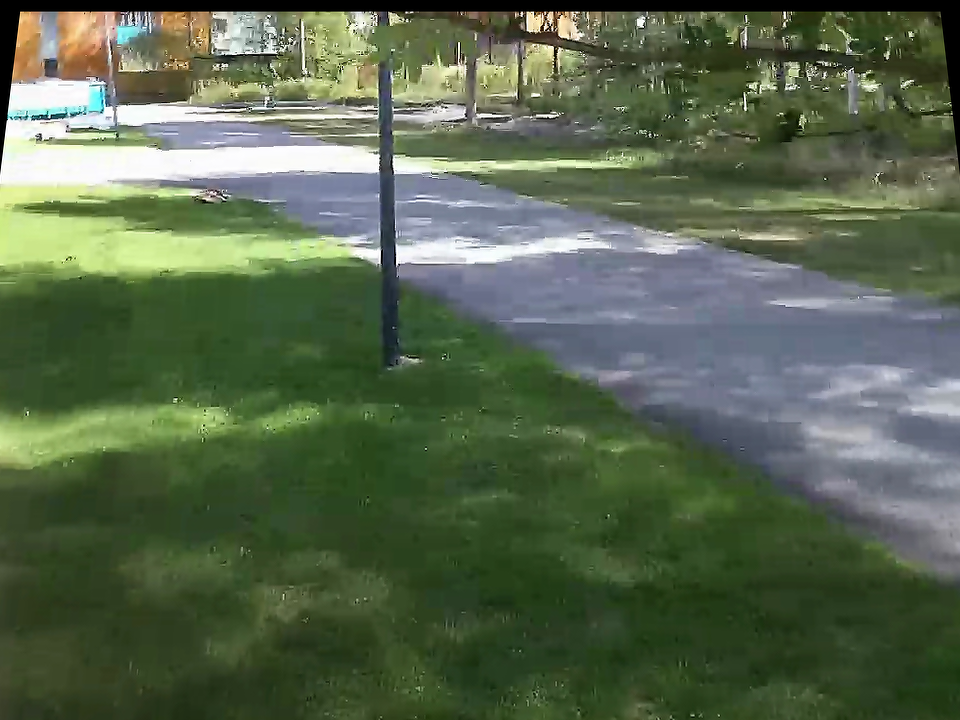branch: (506, 33, 940, 91), (400, 10, 571, 58)
